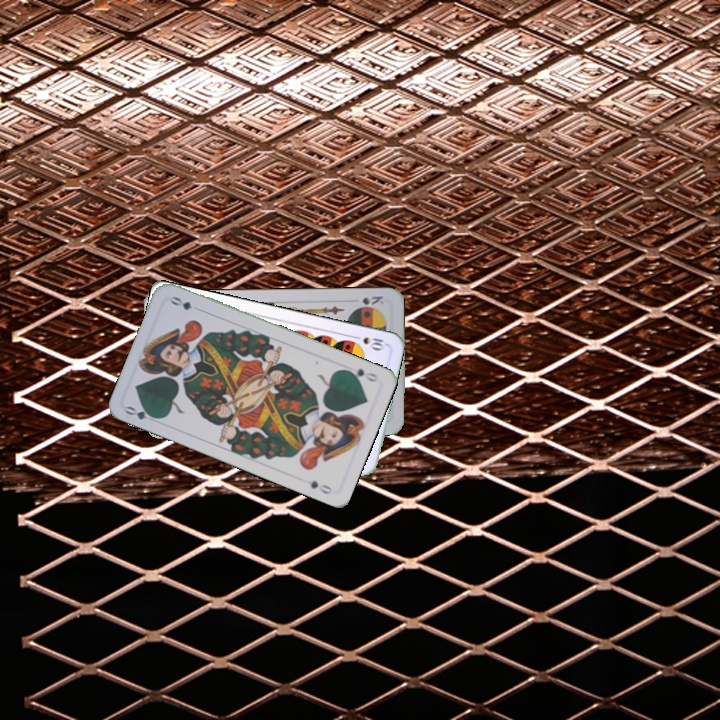GO: (121, 402, 162, 425), (341, 364, 380, 384)
S10: (348, 331, 386, 353)
SK: (358, 292, 386, 307)
